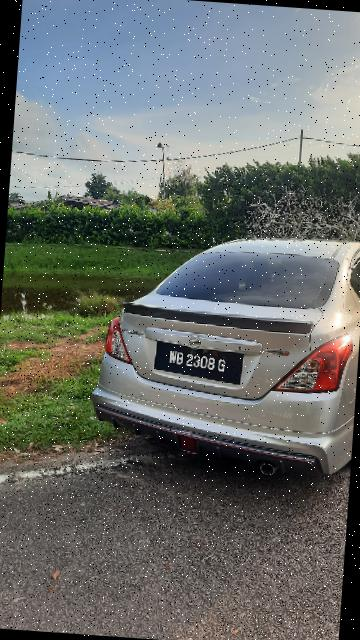License_Plate: (146, 338, 254, 392)
car: (81, 216, 360, 484)
